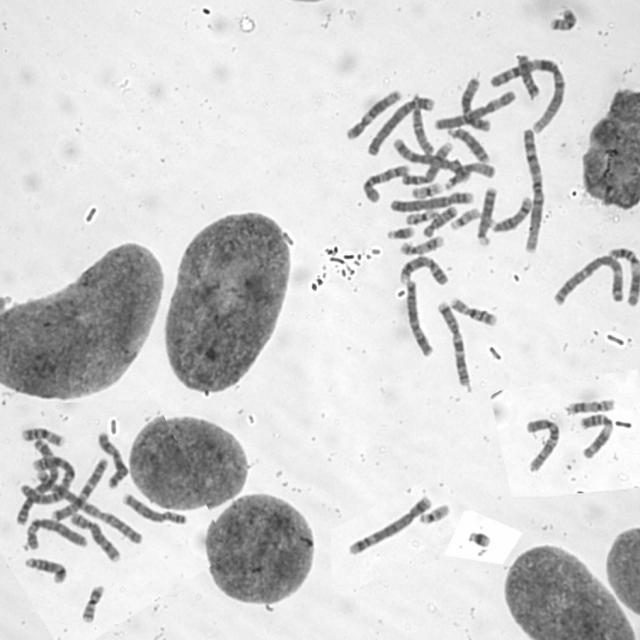A1: (488, 55, 568, 135), (519, 125, 546, 255)
A2: (33, 467, 146, 545), (20, 453, 78, 507)
A3: (549, 252, 626, 308), (16, 436, 58, 527)
B4: (364, 95, 437, 157), (387, 188, 475, 214)
B5: (346, 492, 433, 557), (391, 135, 471, 183)
C10: (358, 161, 412, 205), (517, 417, 561, 471)
C11: (606, 244, 639, 304), (578, 411, 614, 460)
C12: (343, 86, 403, 142), (458, 75, 492, 131)
C6: (432, 87, 517, 131), (21, 516, 88, 552)
C7: (49, 455, 110, 522), (434, 297, 472, 388)
C8: (68, 509, 122, 563), (119, 489, 189, 527)
C9: (398, 140, 454, 186), (396, 252, 450, 288)
D13: (445, 125, 490, 164), (474, 184, 498, 246)
D14: (489, 193, 533, 233), (23, 554, 68, 584)
D15: (441, 158, 497, 189), (410, 90, 434, 156)
E16: (448, 294, 499, 328), (19, 424, 65, 448)
E17: (397, 233, 445, 257), (562, 395, 616, 415)
E18: (420, 202, 457, 238), (516, 50, 542, 100)
F19: (408, 179, 446, 200), (404, 208, 438, 226)
F20: (78, 582, 106, 625), (546, 6, 578, 34)
G21: (384, 223, 416, 241), (466, 527, 492, 549)
G22: (448, 205, 482, 231), (416, 500, 452, 524)
X: (403, 277, 435, 357), (95, 429, 129, 489)
